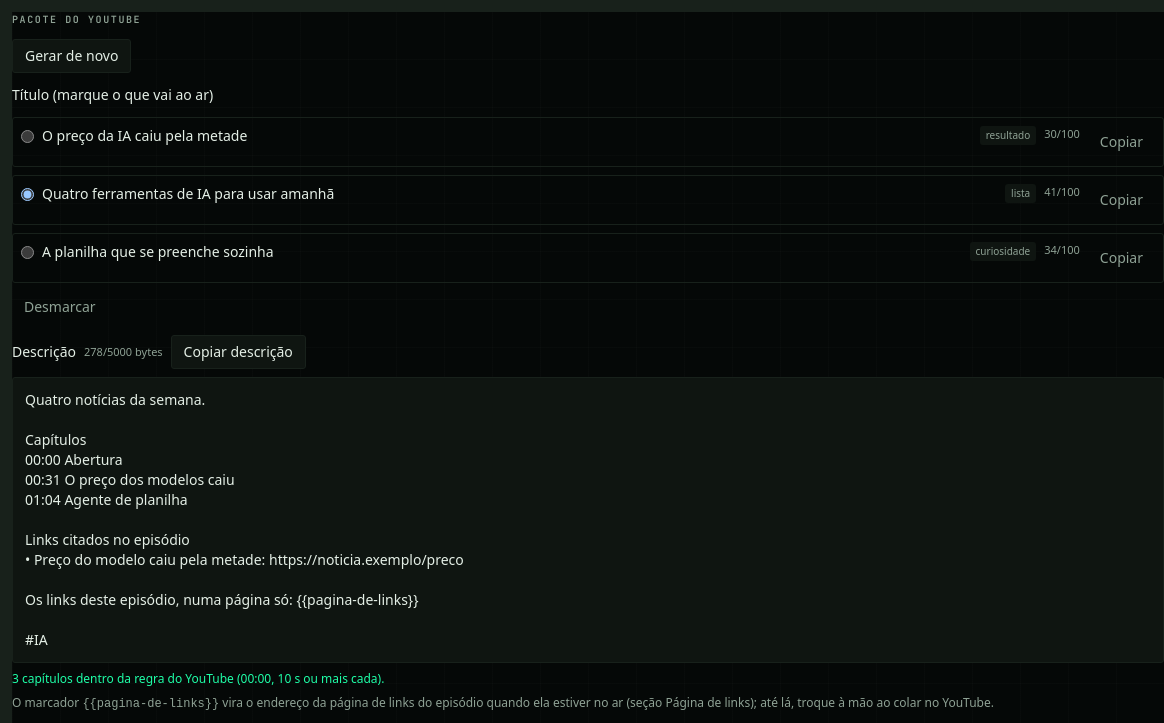
Test case: o pacote do YouTube › com pacote, gerar de novo pede confirmação antes de substituir
Click the button "Gerar de novo" at {"x": 72, "y": 56}, box [12,39,131,73]
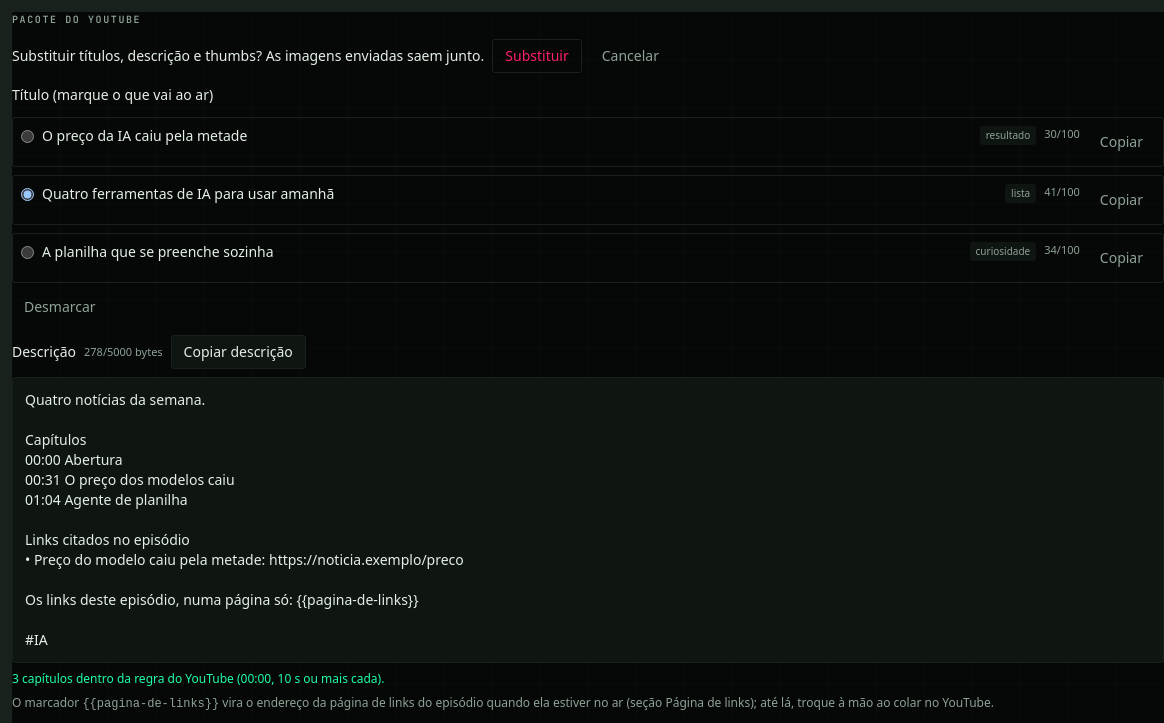
expect the element "Pacote do YouTube" shows "As imagens enviadas saem junto": met, box [12,46,484,65]
Click the button "Substituir" at {"x": 537, "y": 56}, box [492,39,582,73]
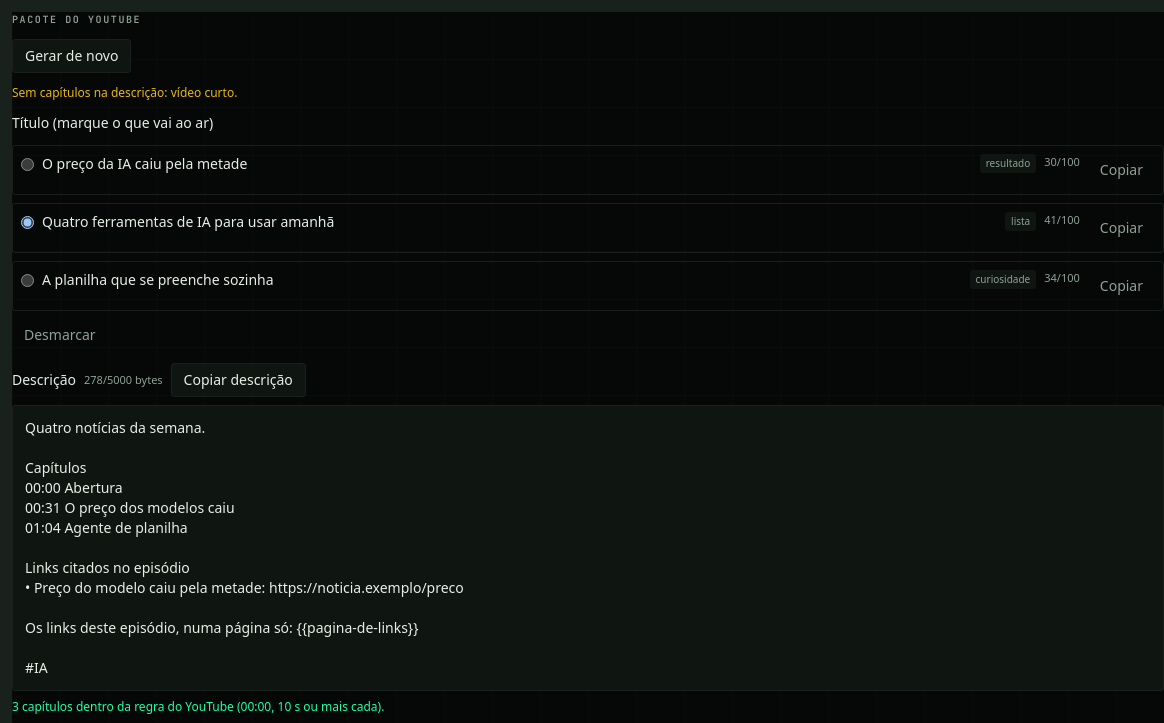
expect the list item "Sem capítulos na descrição: vídeo curto." is shown: met, box [12,84,237,101]
